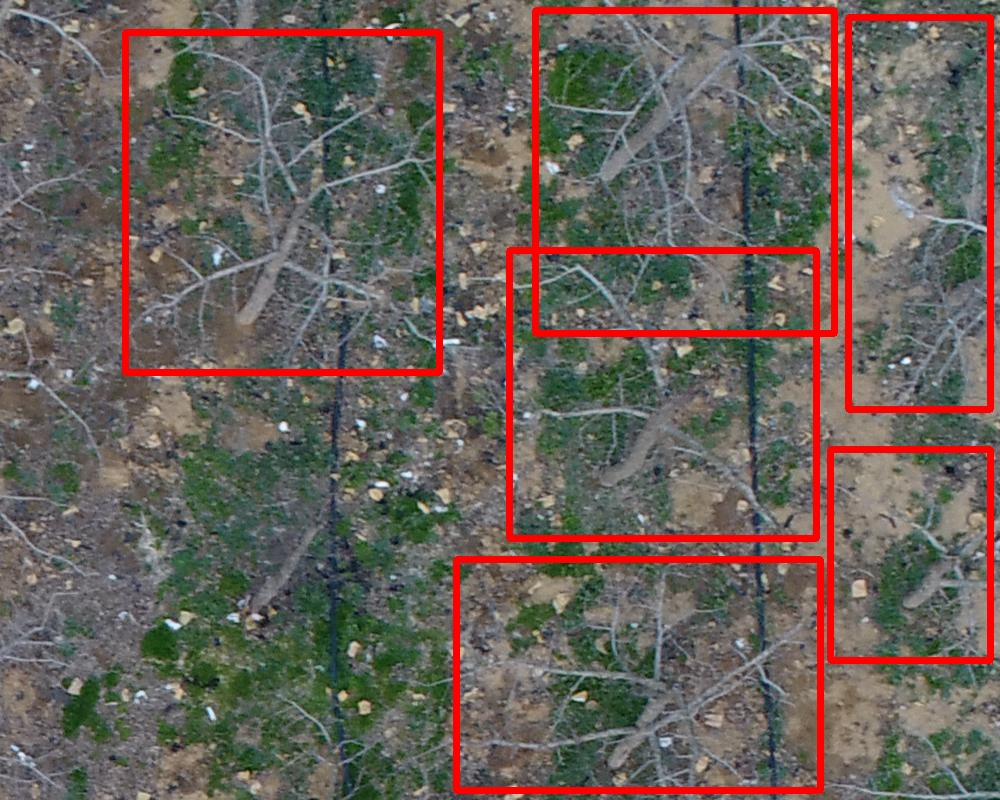apple: (125, 32, 439, 372), (535, 10, 834, 333), (509, 250, 816, 538), (456, 559, 820, 790), (848, 17, 990, 409), (830, 449, 990, 660)
